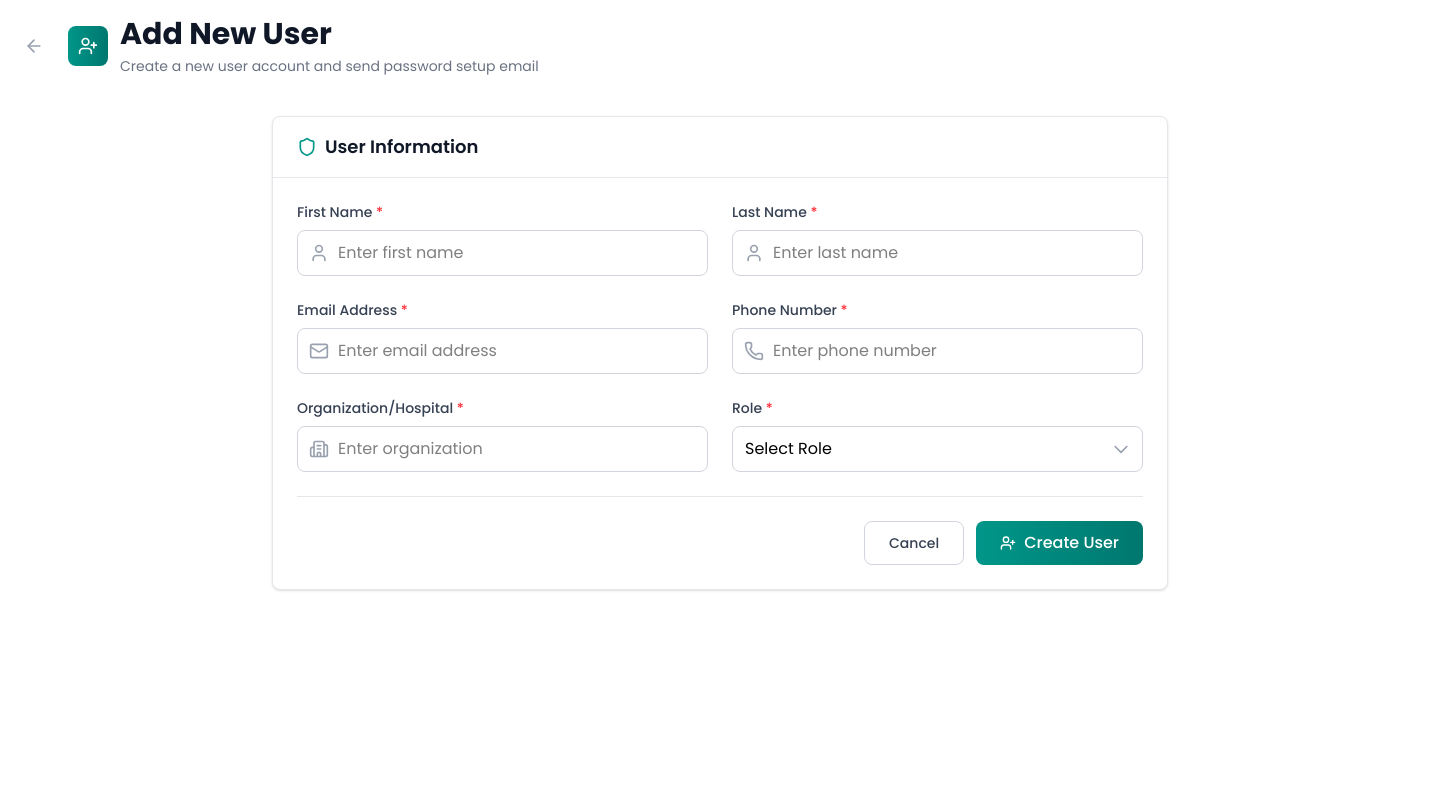
Test: AddUser › should show department field when role is doctor
# Select doctor role
Select "Doctor" in the dropdown labelled "Role *" at point(938, 449), box [732,426,1143,472]
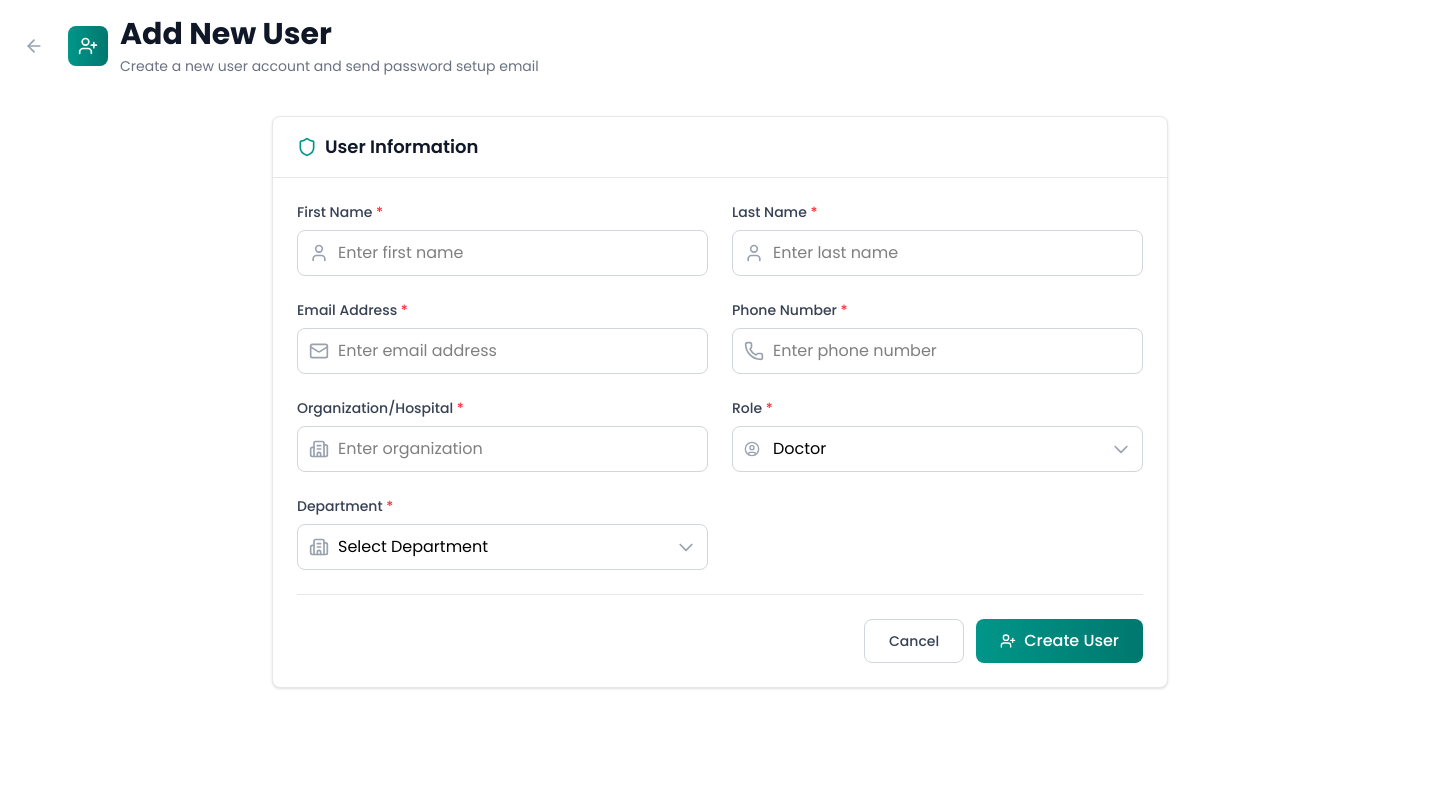
Now the dropdown labelled "Department *" is shown, box [297,524,708,570]
